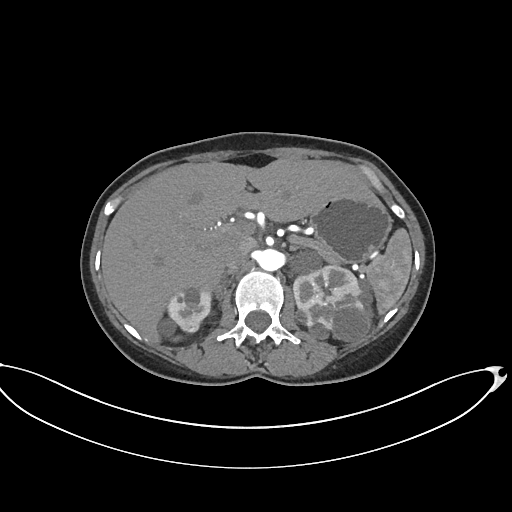Lesion: (179, 325, 200, 334)
